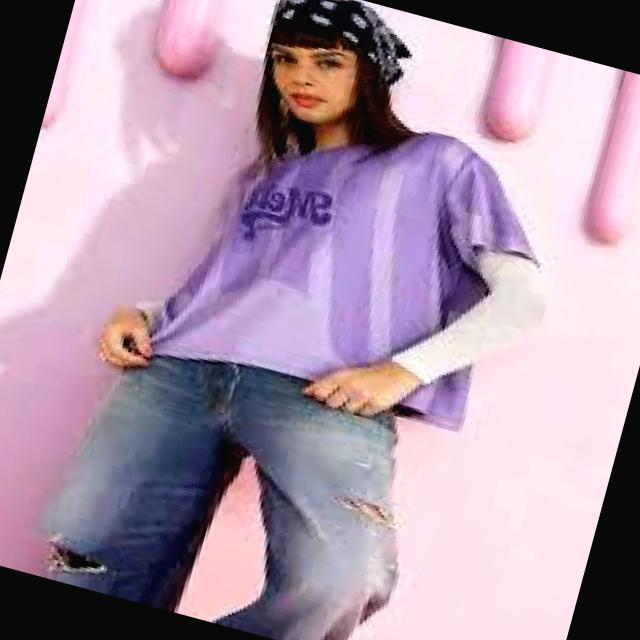face: (269, 43, 357, 127)
hat: (271, 0, 410, 84)
lower-wear: (42, 355, 398, 639)
top-wear: (150, 132, 536, 379)
